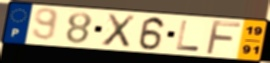6: (138, 15, 167, 51)
8: (63, 10, 94, 45)
9: (32, 6, 60, 44)
F: (204, 19, 243, 56)
L: (175, 19, 202, 53)
X: (100, 13, 137, 49)
